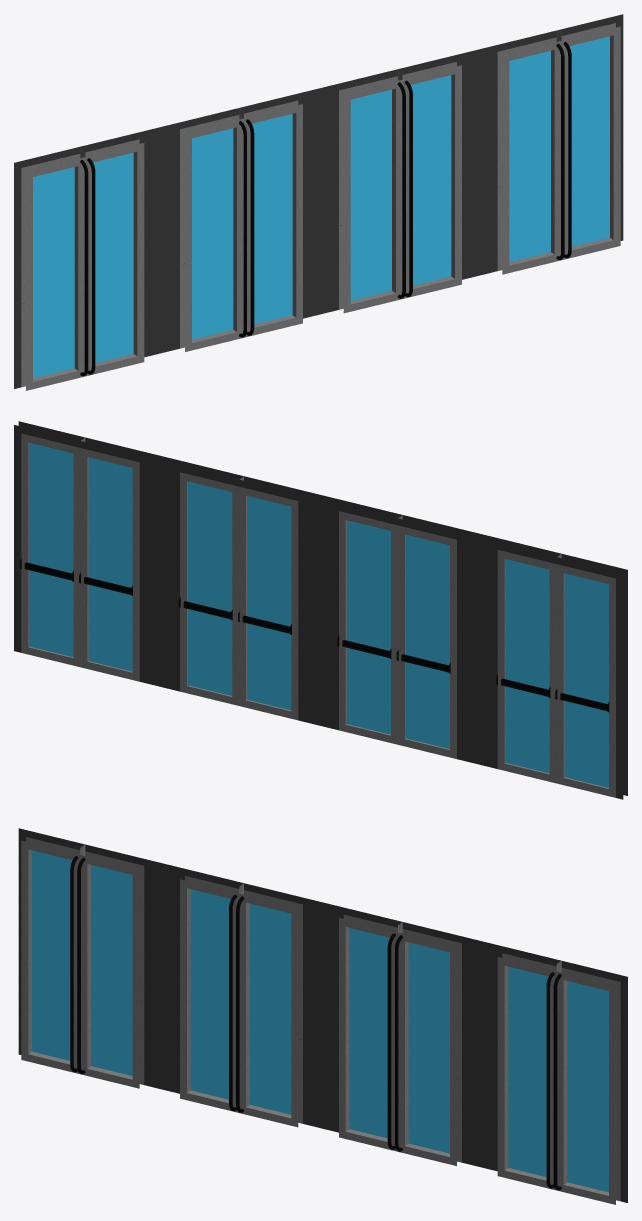
Rendered from AzrieliPavillionDoors.glb.
3 renders of one model, top to bottom at view 1: azimuth 30°, elevation 25°; view 2: azimuth 150°, elevation 25°; view 3: azimuth 330°, elevation 25°, orthographic.
Parts seen in each view (by area): view 1: AzrieliPavillionDoors; view 2: AzrieliPavillionDoors; view 3: AzrieliPavillionDoors.
Boxes of the visible parts, x1=… form: AzrieliPavillionDoors: x1=14, y1=14, x2=623, y2=390; AzrieliPavillionDoors: x1=14, y1=421, x2=627, y2=799; AzrieliPavillionDoors: x1=18, y1=828, x2=627, y2=1204.
Bounding box in the file's own units: 6.33 × 2.25 × 0.2324.
Materials: 4 (4 with a texture image).
